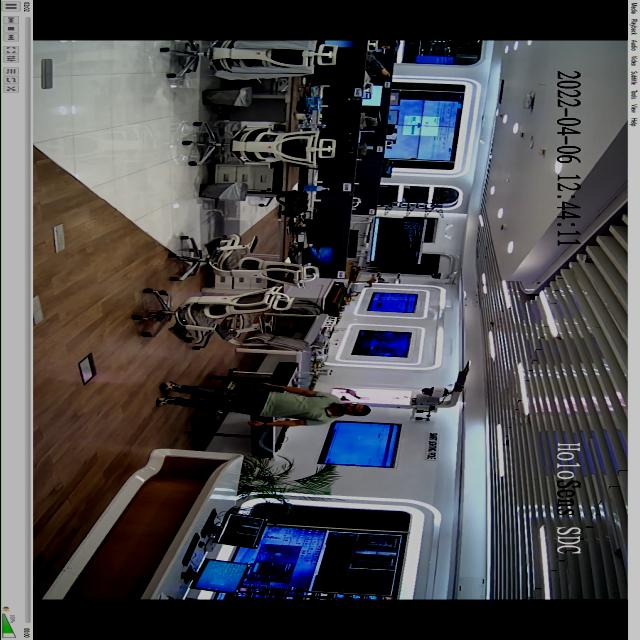long weapon: (206, 371, 290, 394)
